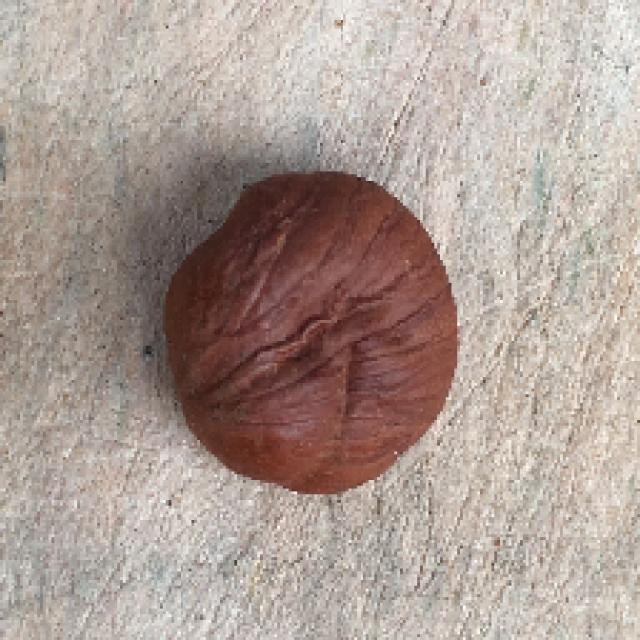hazelnut: (155, 169, 460, 504)
